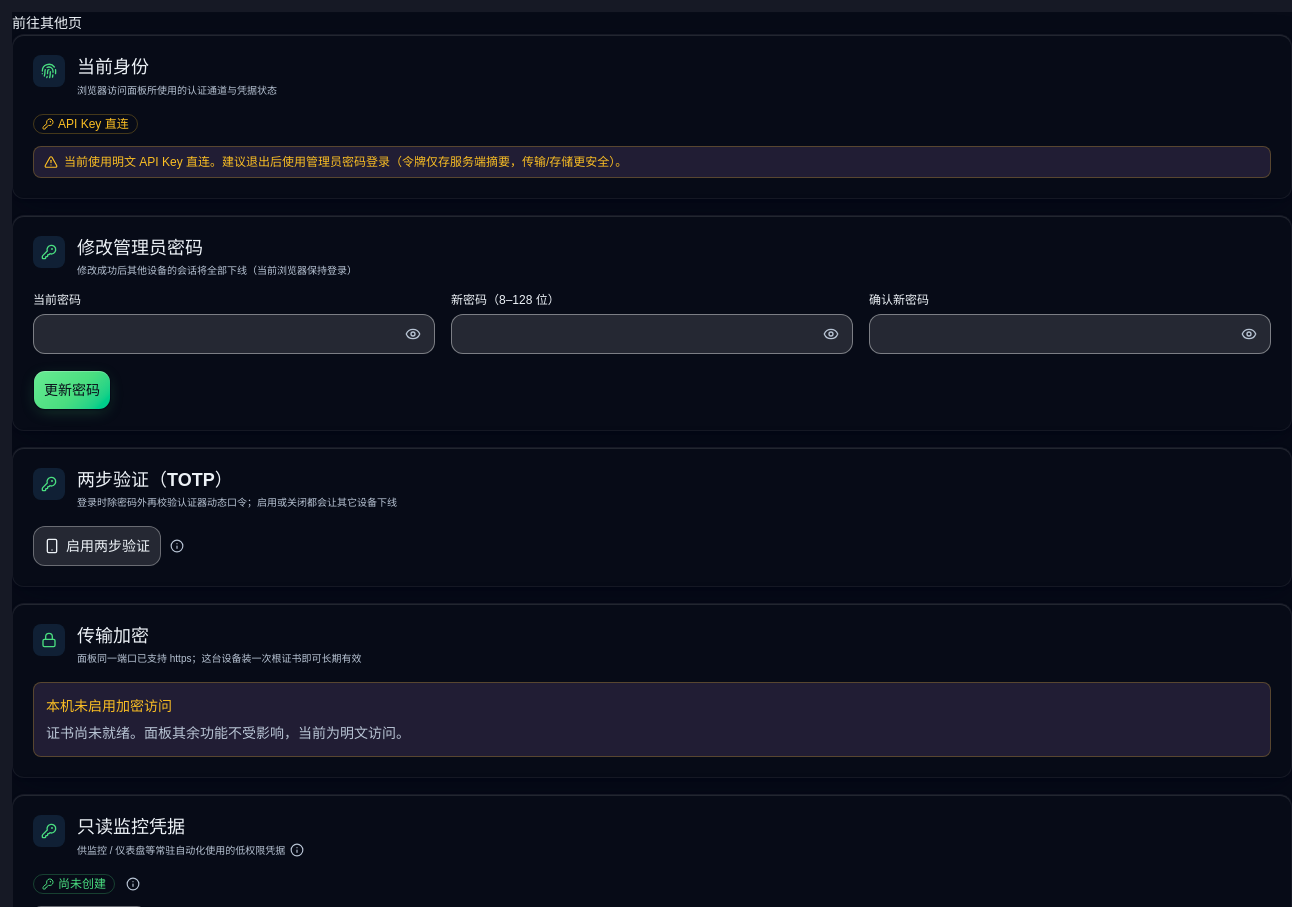
it: AccountPanel 修改密码脏状态守卫 › 提交成功：toast + 表单清空（dirty 自动解除）
Type "old-pass-123" into the password field labelled "当前密码" at (234, 334), box x1=33 y1=314 x2=435 y2=354
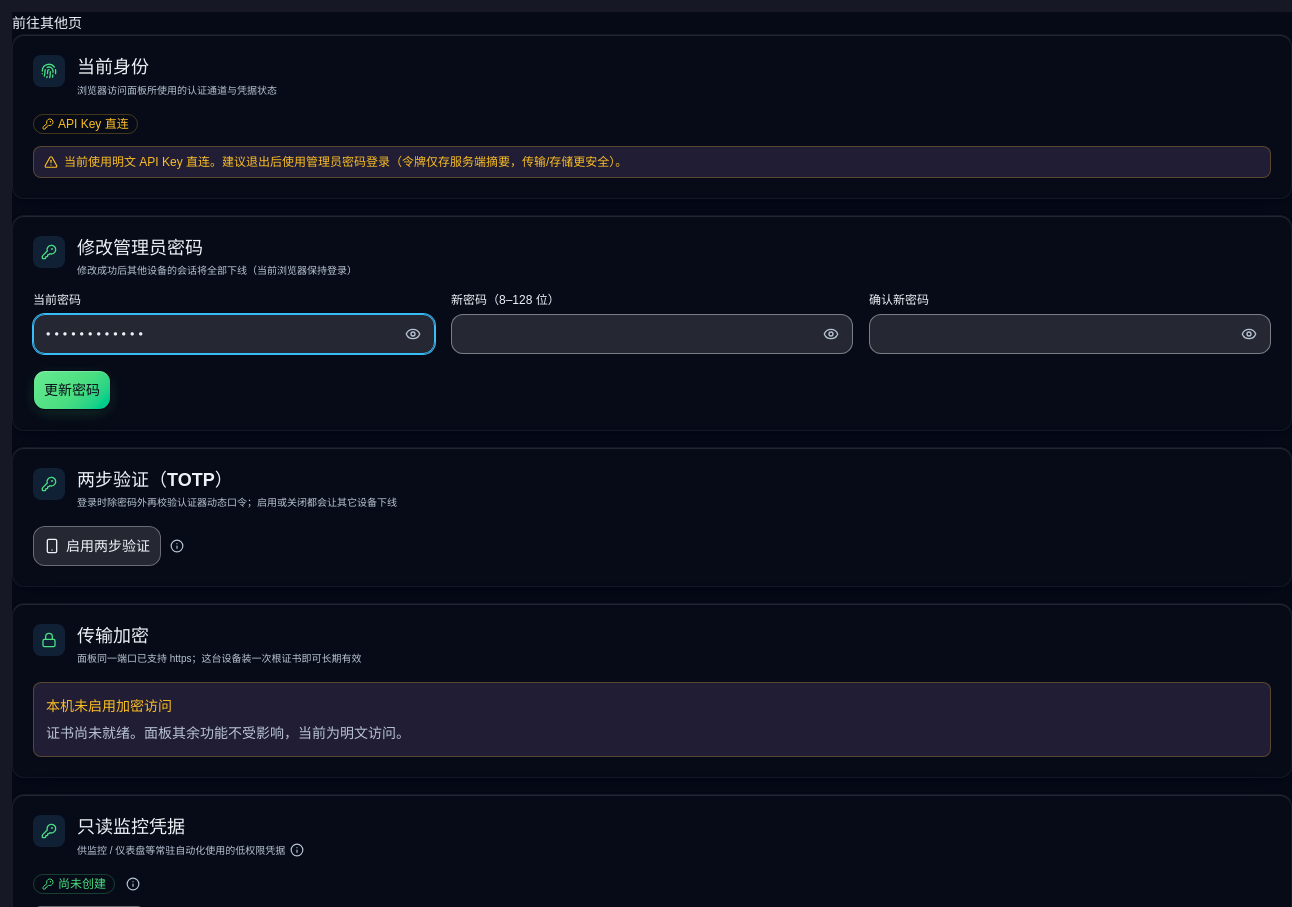
Type "new-pass-12345" into the password field labelled "新密码（8–128 位）" at (652, 334), box x1=451 y1=314 x2=853 y2=354
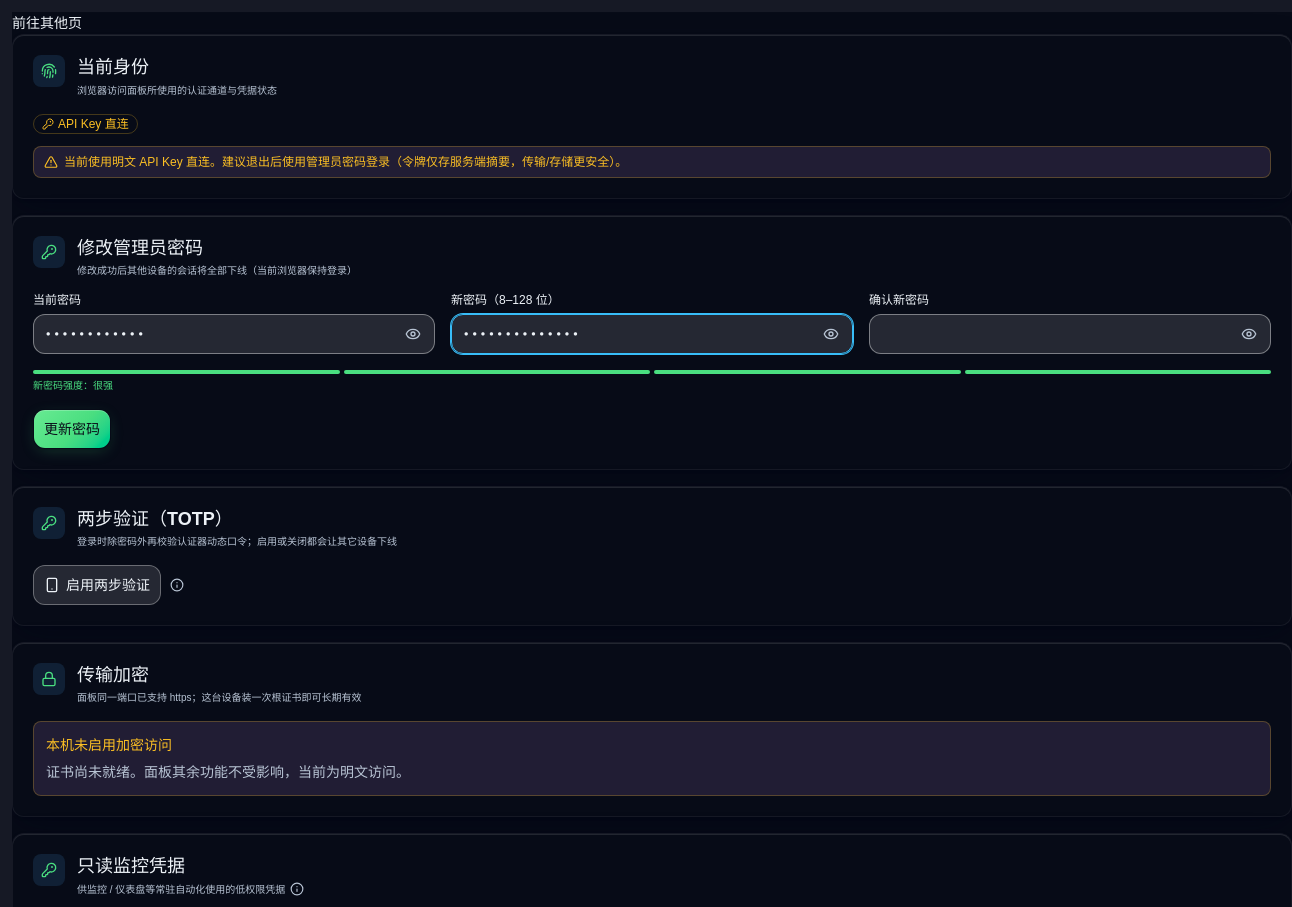
Type "new-pass-12345" into the password field labelled "确认新密码" at (1070, 334), box x1=869 y1=314 x2=1271 y2=354
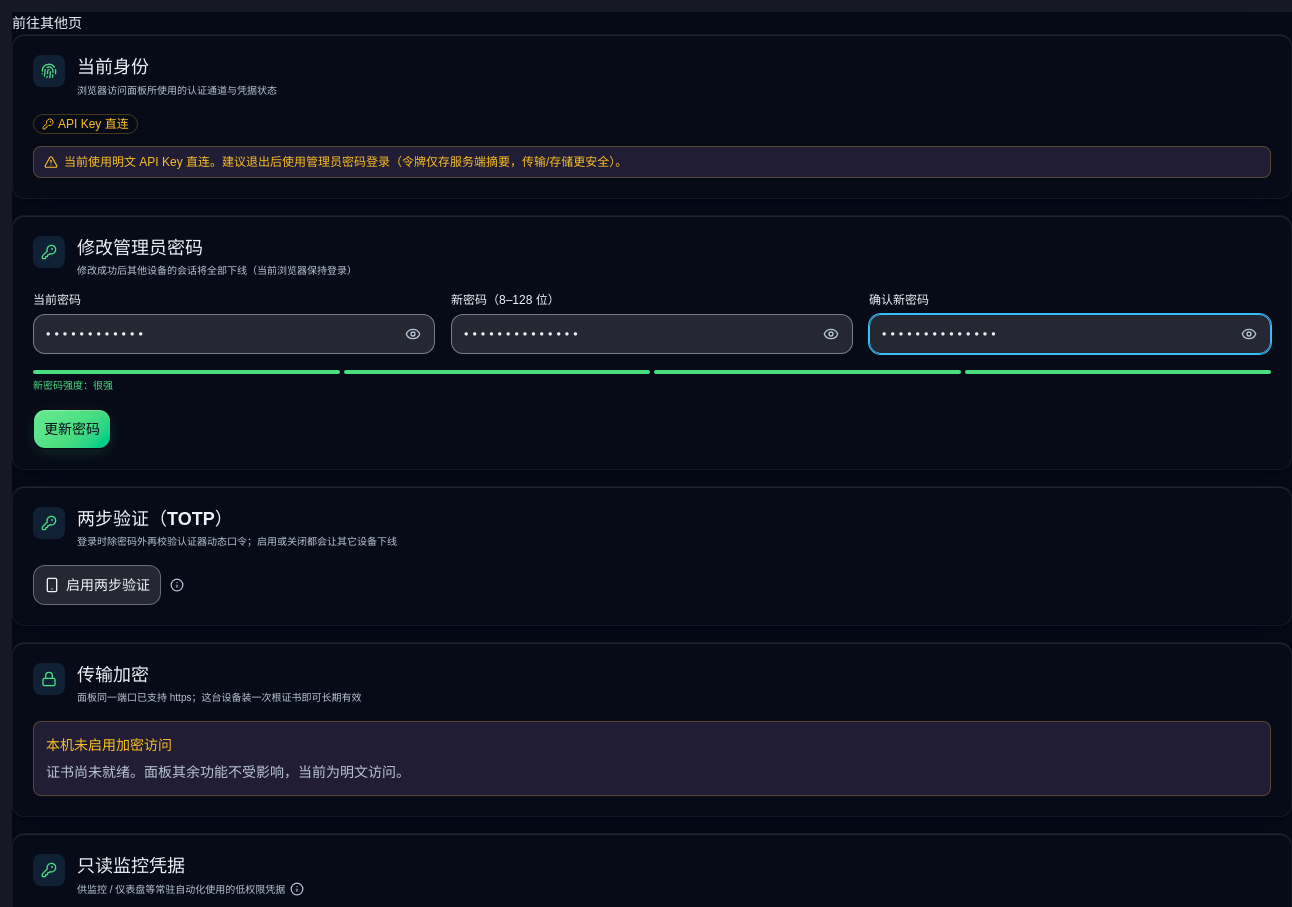
Click the button "更新密码" at (72, 429), box x1=33 y1=409 x2=111 y2=449
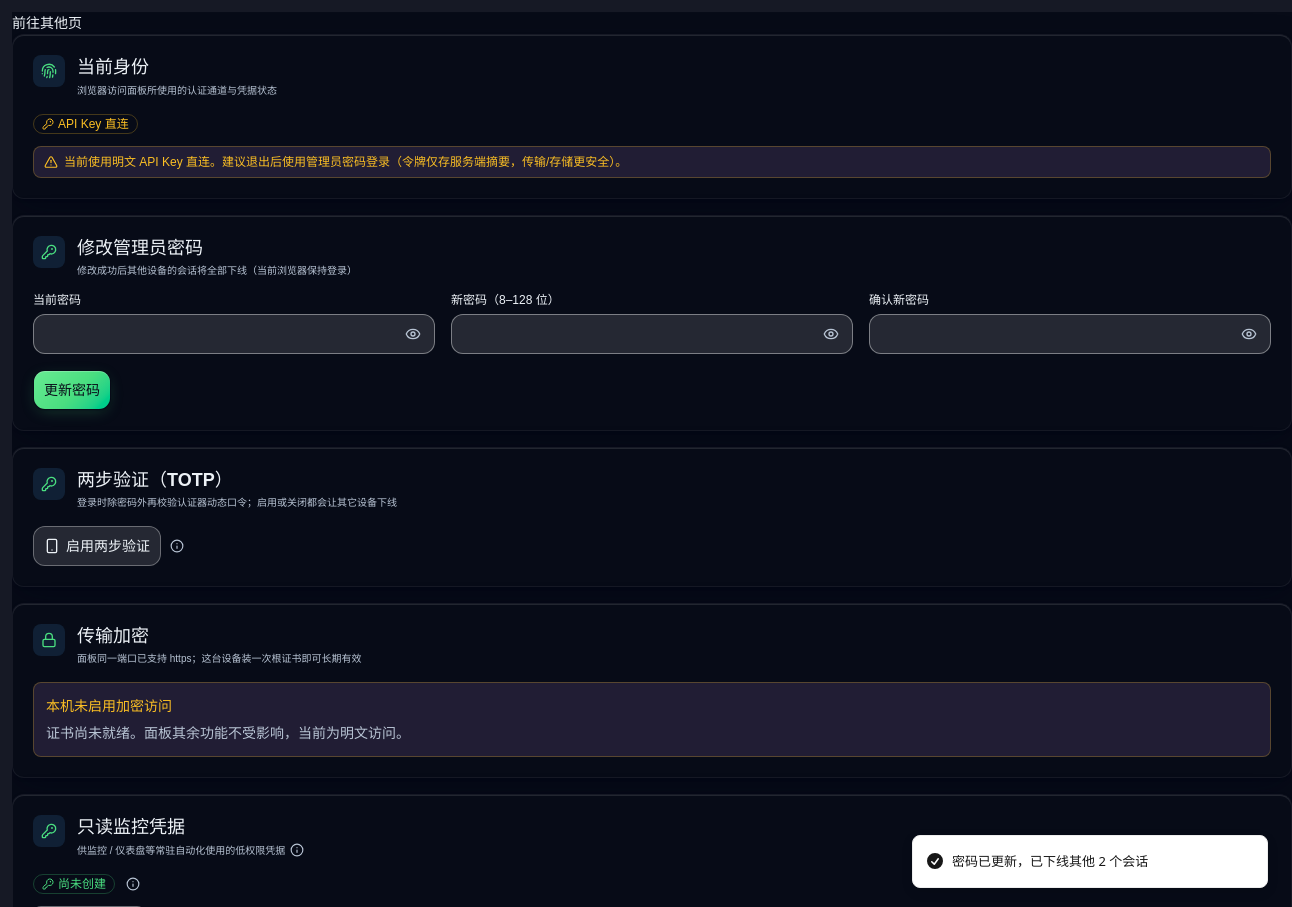
Expected: the text "密码已更新，已下线其他 2 个会话" is shown, x1=952 y1=852 x2=1148 y2=871
Expected: the password field labelled "当前密码" is empty, x1=33 y1=314 x2=435 y2=354
Expected: the password field labelled "新密码（8–128 位）" is empty, x1=451 y1=314 x2=853 y2=354
